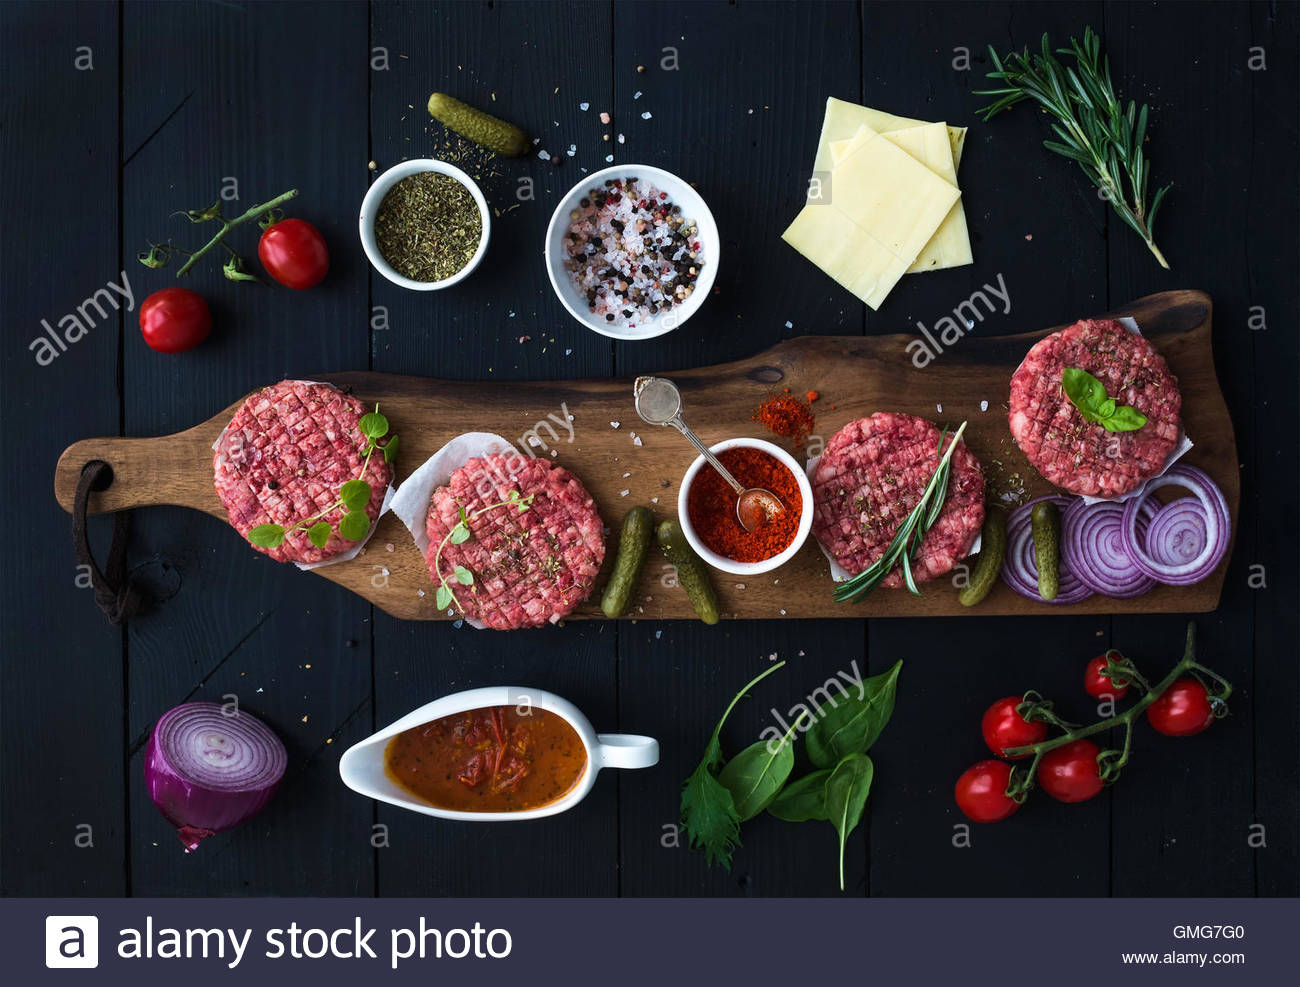ground_beef: (185, 391, 395, 592), (435, 441, 591, 650), (1004, 315, 1180, 486), (823, 422, 958, 574)
